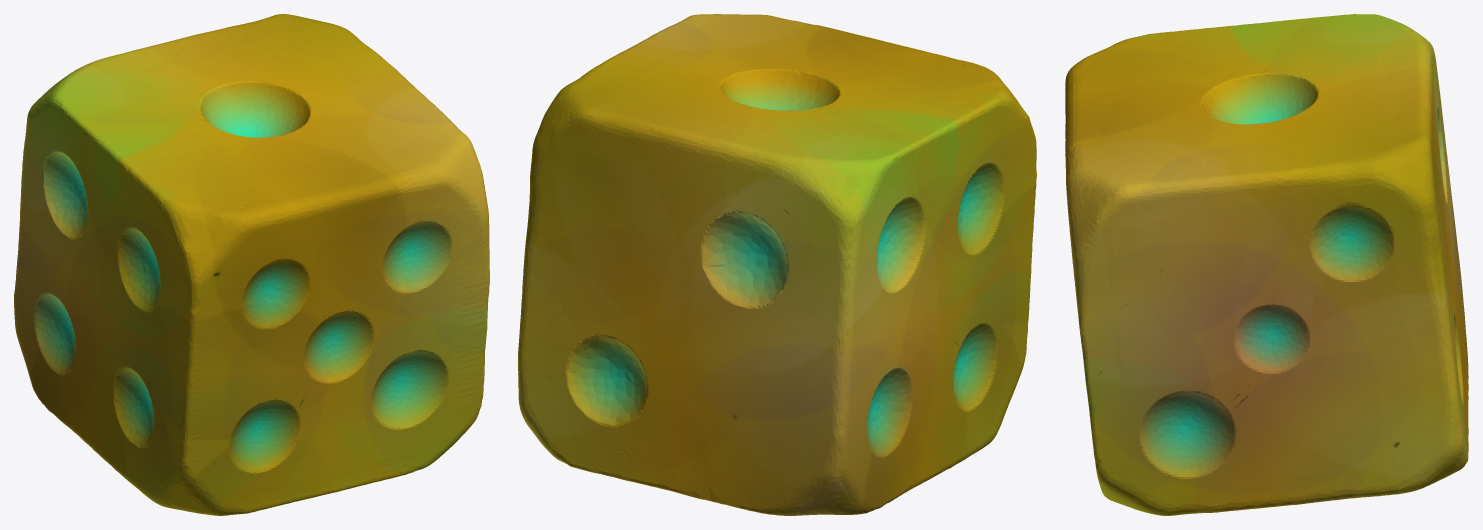
3 renders of one model, left to right at view 1: azimuth 30°, elevation 25°; view 2: azimuth 150°, elevation 25°; view 3: azimuth 270°, elevation 25°, orthographic. The views are drawn at different scales.
Parts seen in each view (by area): view 1: Layer_1_6 edges_mtl0_0; view 2: Layer_1_6 edges_mtl0_0; view 3: Layer_1_6 edges_mtl0_0.
Boxes of the visible parts, bbox=[...] form: Layer_1_6 edges_mtl0_0: bbox=[14, 14, 489, 515]; Layer_1_6 edges_mtl0_0: bbox=[518, 14, 1036, 515]; Layer_1_6 edges_mtl0_0: bbox=[1065, 14, 1468, 515].
Bounding box in the file's own units: 0.0458 × 0.05 × 0.05.
1 material, 1 textured.
